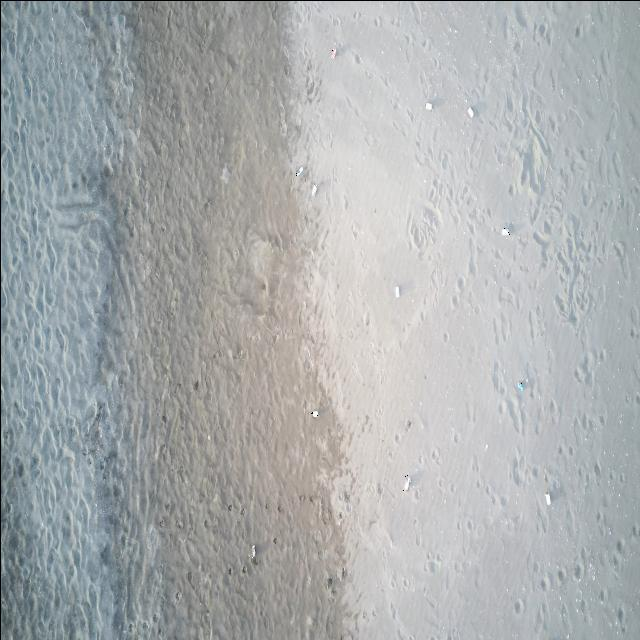Garbage: (403, 475, 409, 491), (249, 544, 255, 559), (500, 227, 510, 236), (393, 284, 400, 296), (516, 380, 524, 390), (544, 492, 550, 504), (295, 167, 303, 176), (424, 101, 432, 110), (329, 47, 335, 57), (310, 409, 318, 416), (467, 107, 473, 116), (312, 183, 316, 196)
